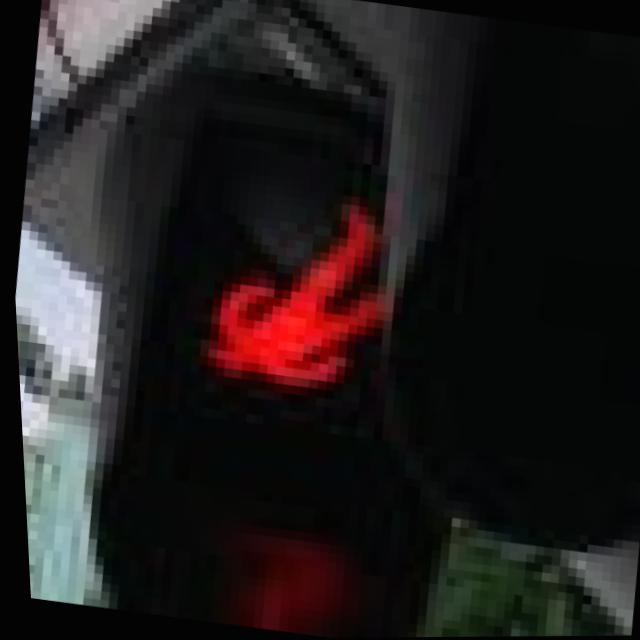red_light: (132, 146, 415, 483)
